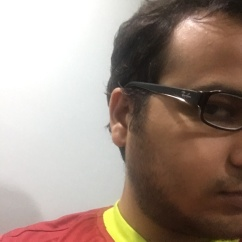glasses: (134, 76, 240, 124)
